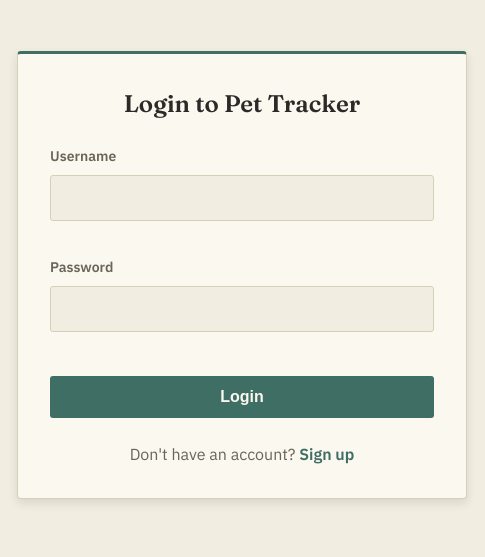
Test: Login Component › displays error message on login failure
Step 1. Type "wronguser" into the field labelled "Username" → (242, 198), box x1=50 y1=175 x2=434 y2=221
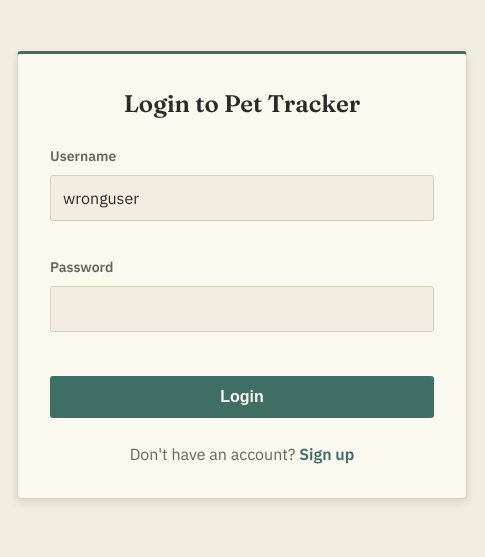
Step 2. Type "wrongpass" into the password field labelled "Password" → (242, 309), box x1=50 y1=286 x2=434 y2=332
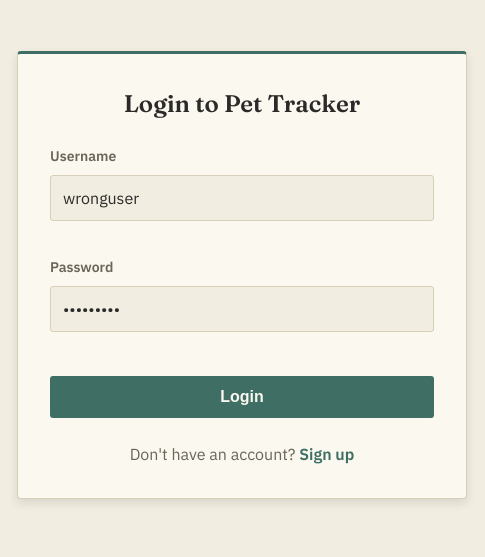
Step 3. Click the button "Login" → (242, 397), box x1=50 y1=376 x2=434 y2=418
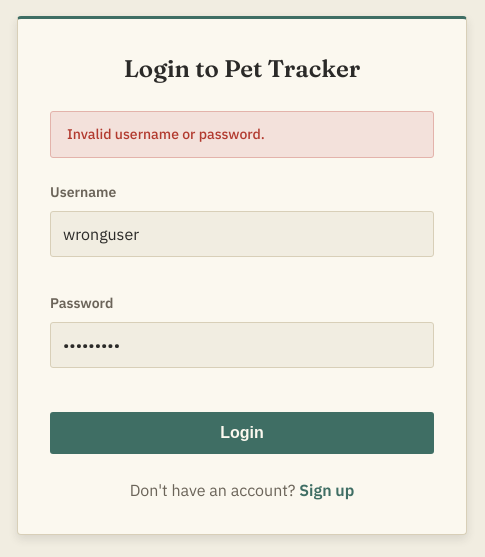
Check: the text "Invalid username or password." is shown, box x1=50 y1=110 x2=434 y2=158
